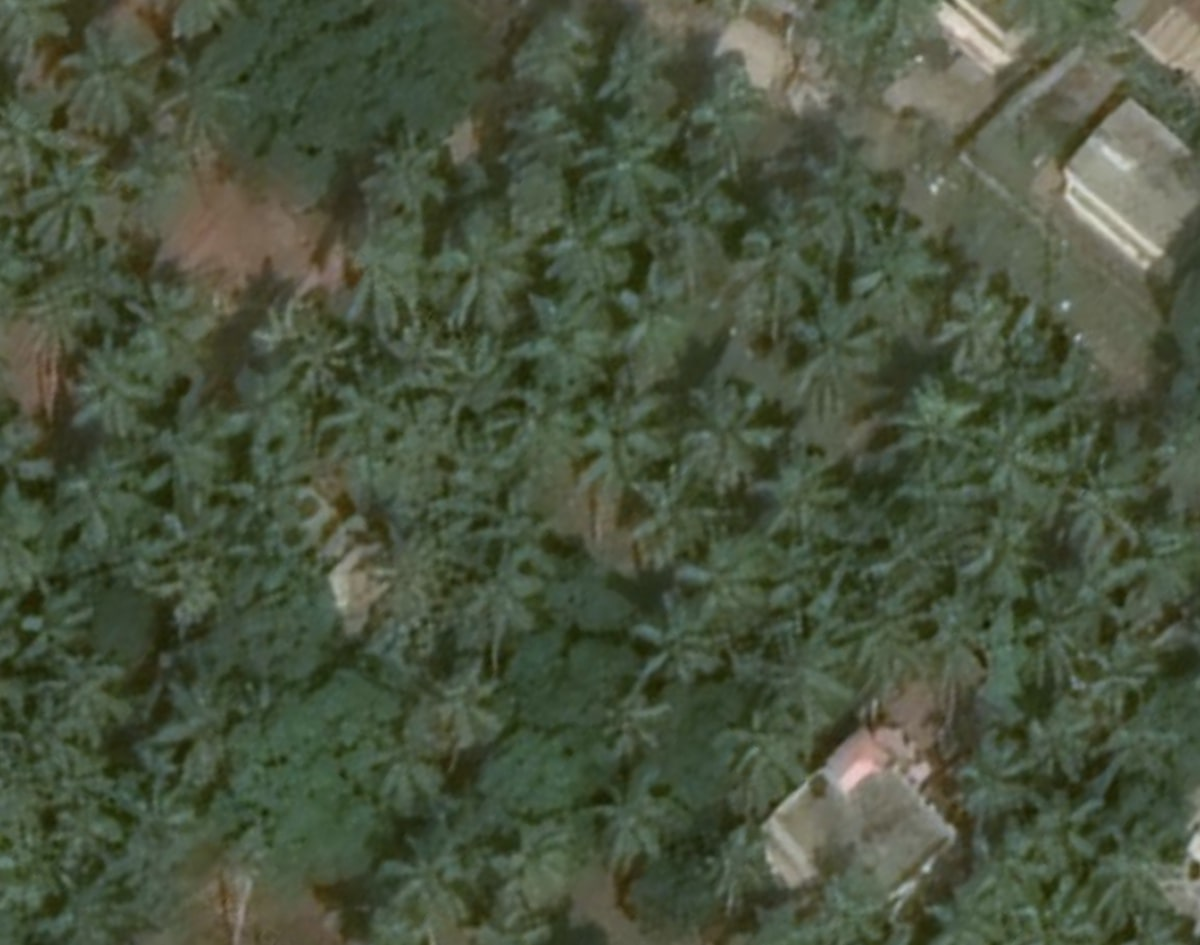coconut: (51, 15, 167, 144), (556, 361, 670, 477), (1001, 564, 1094, 693), (244, 299, 356, 406), (781, 294, 879, 410), (578, 112, 675, 224), (13, 143, 109, 256), (364, 810, 463, 918), (54, 340, 155, 445), (946, 718, 1039, 832), (590, 762, 685, 872), (144, 659, 247, 758), (625, 591, 721, 697), (928, 277, 1020, 382), (430, 223, 521, 320), (692, 380, 781, 479), (880, 375, 976, 466), (494, 818, 576, 912)
